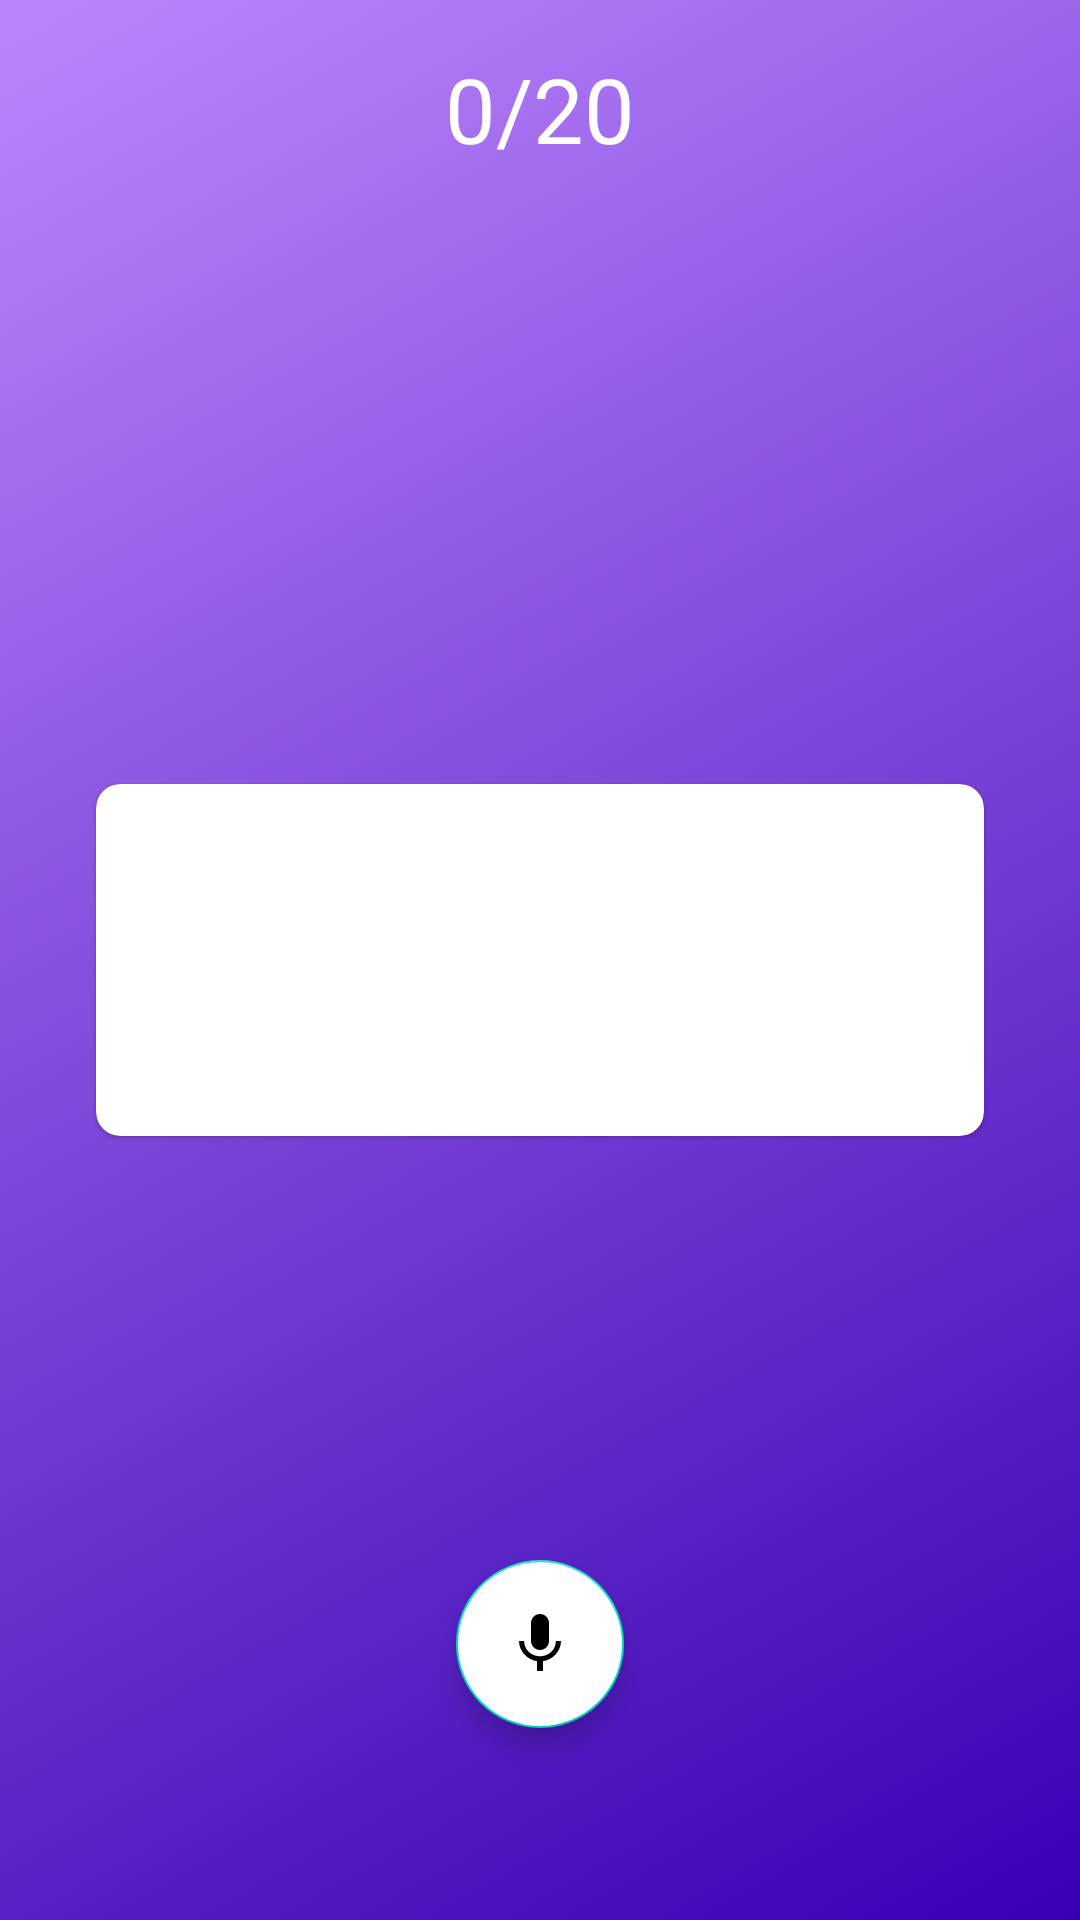

Icons on this 1080×1920 Android screen, each with the point to tap as (x=x, y=y):
mic: (x=540, y=1644)
